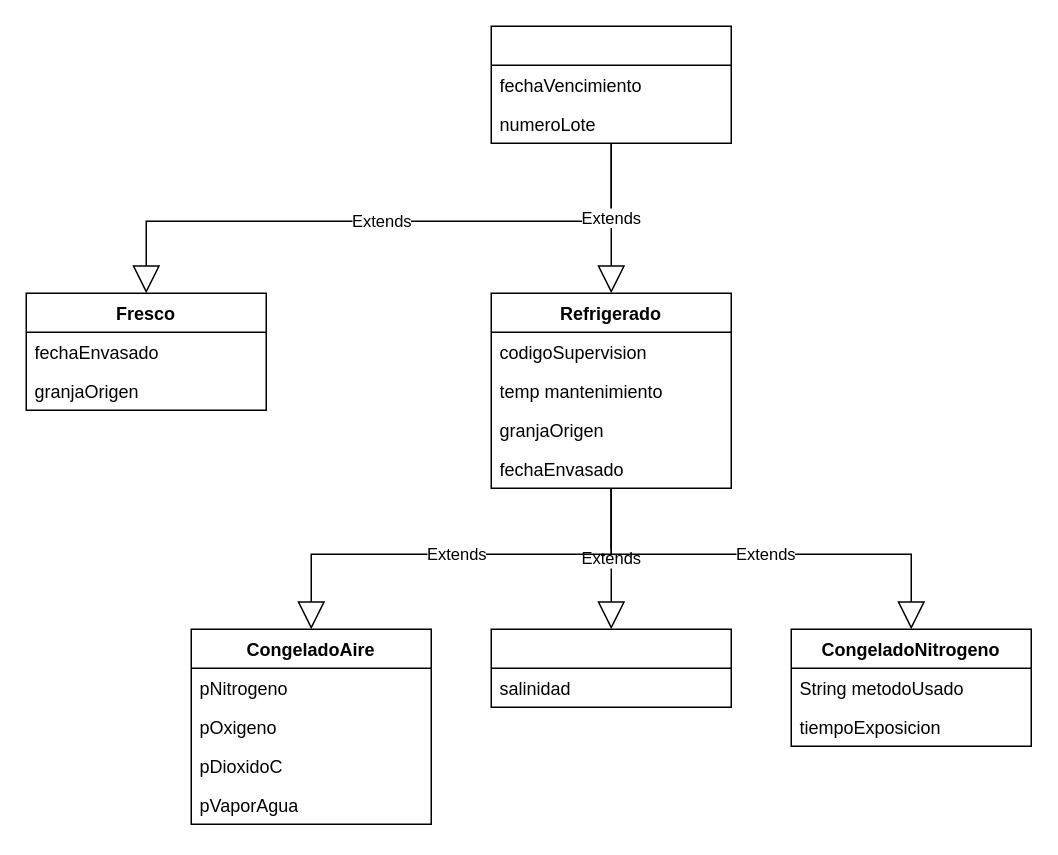
This 1058x855 diagram has some shape labels left out. The box of each missing label's shape, as (x1, y1, x2, y2) in pixels:
CongeladoAgua: (490, 628, 731, 707)
Producto: (490, 25, 731, 143)
